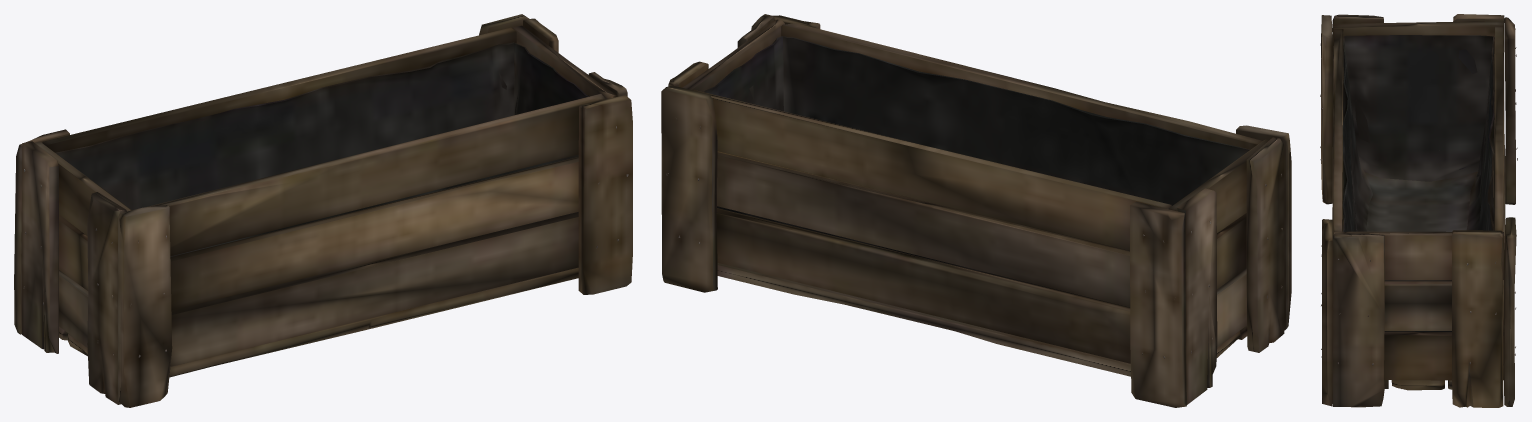
The model's file is planter_box_02_lod1.glb.
The picture shows the model from 3 angles, left to right: view 1: azimuth 30°, elevation 25°; view 2: azimuth 150°, elevation 25°; view 3: azimuth 270°, elevation 25°; orthographic projection. The views are drawn at different scales.
Visible parts, largest first — view 1: planter_box_02; view 2: planter_box_02; view 3: planter_box_02.
Boxes of the visible parts, x1,y1,x2,y2 form: planter_box_02: (14,14,632,407); planter_box_02: (661,14,1291,407); planter_box_02: (1320,14,1517,407).
Size of the model in its own units: 1.25 by 0.4515 by 0.467.
1 material, 1 textured.
